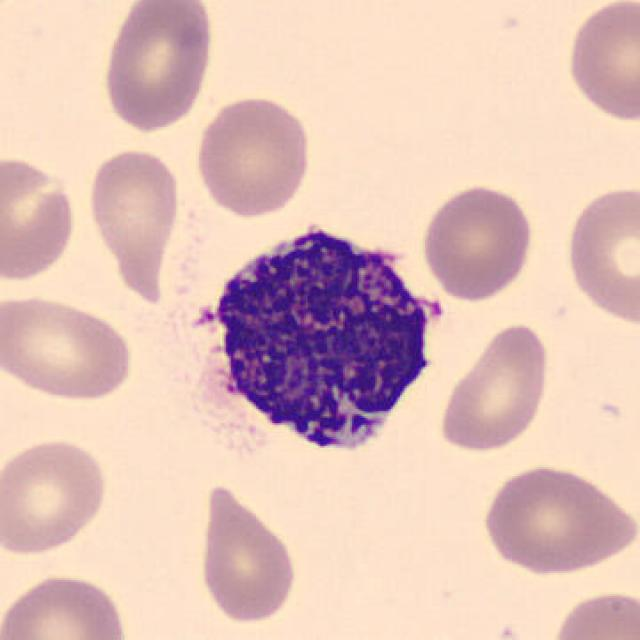Basophil: (172, 210, 452, 474)
RBC: (476, 460, 636, 578), (434, 319, 553, 457), (84, 143, 183, 308), (98, 0, 218, 134), (190, 92, 315, 220), (194, 480, 302, 628), (0, 291, 139, 404), (418, 182, 537, 303), (0, 434, 112, 559), (560, 180, 638, 331), (0, 152, 80, 286), (562, 0, 638, 125), (0, 569, 132, 640), (546, 585, 638, 640)
